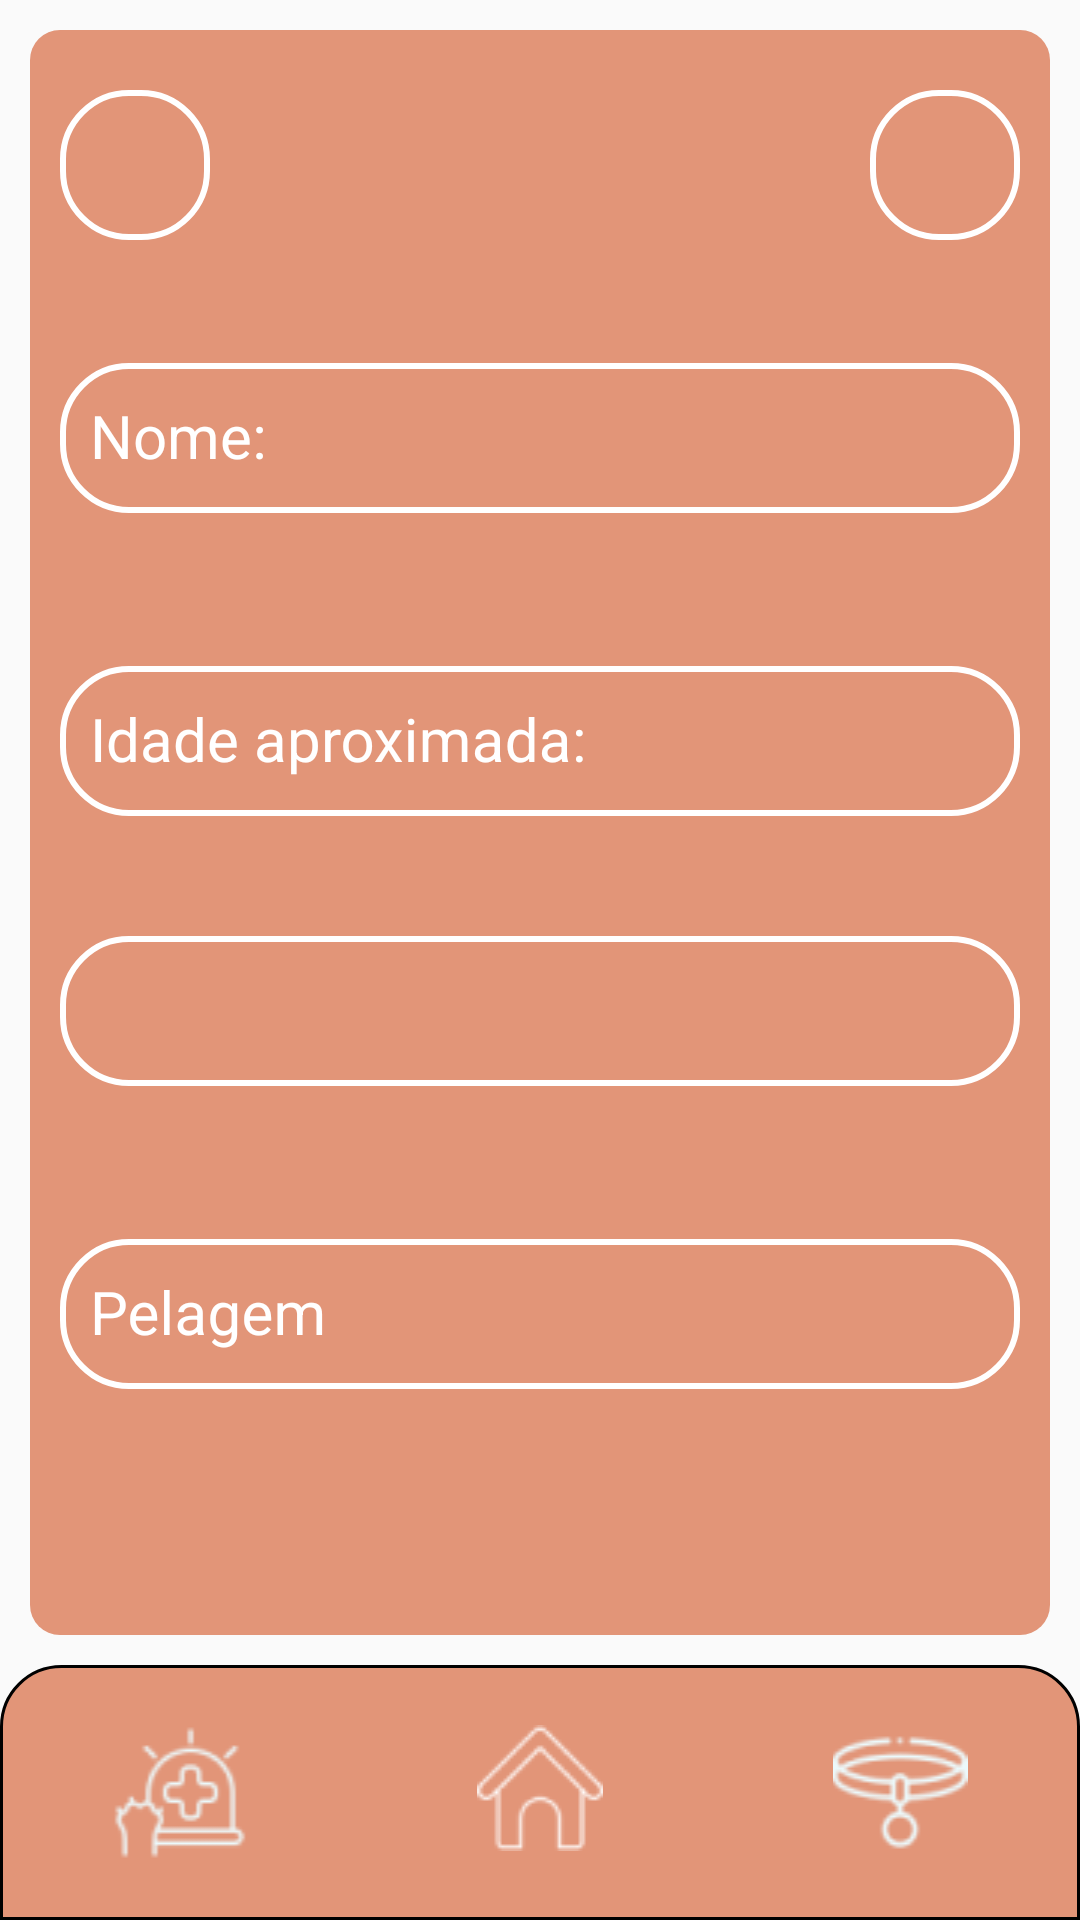

Named icons in this screenshot (1080w x 1920h) and their centers, [x,y]:
dog collar: [900,1793]
house: [540,1788]
pet recovery: [180,1792]
